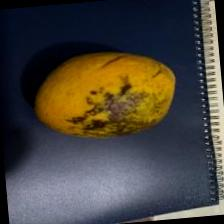Orange Rotten: (24, 35, 193, 162)
